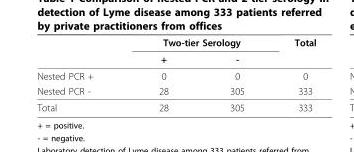table: (36, 36, 315, 112)
table column: (36, 36, 125, 112), (125, 36, 198, 112), (198, 36, 268, 112), (268, 36, 315, 112)
table column header: (36, 36, 315, 67)
table row: (36, 50, 315, 67), (36, 67, 315, 83), (36, 83, 315, 98), (36, 36, 315, 50), (36, 98, 315, 112)
table spanning cell: (125, 36, 268, 50), (268, 36, 315, 67)
